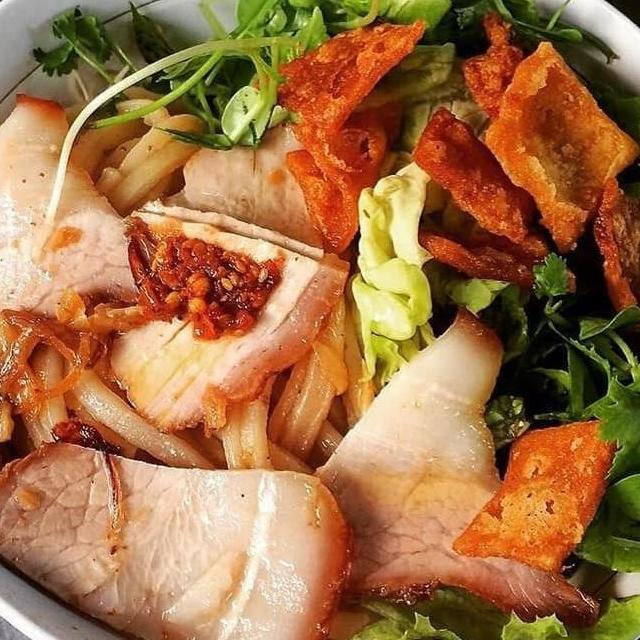banh da: (247, 17, 431, 256), (469, 34, 640, 263), (402, 101, 584, 297), (449, 411, 633, 577), (458, 3, 571, 145), (584, 171, 640, 344)
mi: (0, 294, 389, 500), (47, 81, 217, 221)
mi quang: (0, 0, 640, 640)
thit heo: (281, 298, 610, 630), (0, 434, 356, 640), (92, 190, 354, 440), (0, 88, 159, 429), (142, 113, 368, 311)
